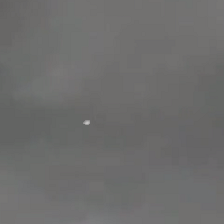Target: (83, 120, 90, 125)
